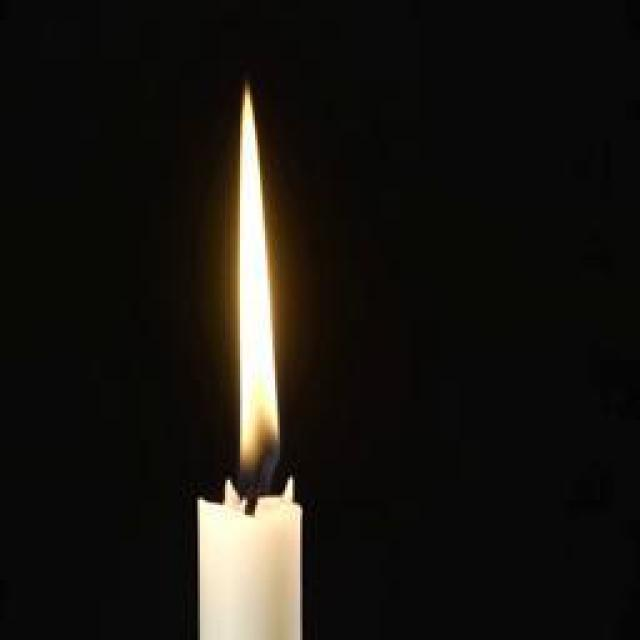Fire: (234, 87, 286, 465)
